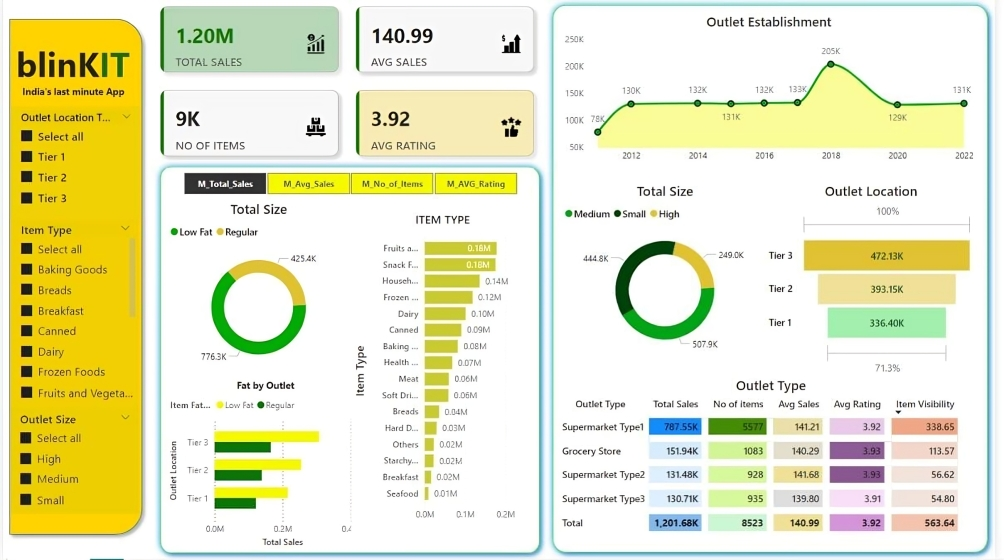

The dashboard page shown, as its layout file describes it:
{"tool":"powerbi","page":{"name":"Blinkit-DA","canvas":[1400,800],"ordinal":0},"visuals":[{"type":"shape","box":[0,27,205.6,747.4],"z":0},{"type":"textbox","box":[13.2,60.8,191.8,80.7],"z":1000},{"type":"textbox","box":[22.5,124.3,169.3,35.7],"z":2000},{"type":"cardVisual","fields":{"Data":["BlinkIT Grocery Data.M_Total_Sales","BlinkIT Grocery Data.M_Avg_Sales","BlinkIT Grocery Data.M_No_of_Items","BlinkIT Grocery Data.M_AVG_Rating"]},"box":[205,1.3,562.2,246],"z":3000},{"type":"shape","box":[213,235.5,554.2,564.8],"z":4000},{"type":"slicer","title":"Fat Content","fields":{"Values":["BlinkIT Grocery Data.Outlet Location Type"]},"box":[12.9,160,180,121.4],"z":5000},{"type":"slicer","fields":{"Values":["Metrices.Metrices"]},"box":[230.2,247.4,519.8,43.7],"z":6000},{"type":"cardVisual","fields":{"Data":["BlinkIT Grocery Data.M_Total_Sales"]},"box":[324.1,415.3,103.2,75.4],"z":7000},{"type":"clusteredBarChart","title":"Fat by Outlet","fields":{"Y":["BlinkIT Grocery Data.M_Total_Sales"],"Category":["BlinkIT Grocery Data.Outlet Location Type"],"Series":["BlinkIT Grocery Data.Item Fat Content"]},"box":[231.5,545,279.1,243.4],"z":8000},{"type":"barChart","title":"ITEM TYPE","fields":{"Category":["BlinkIT Grocery Data.Item Type"],"Y":["BlinkIT Grocery Data.M_Total_Sales"]},"box":[490.7,308.2,259.3,465.6],"z":9000},{"type":"shape","box":[767.2,7.9,632.3,792.3],"z":10000},{"type":"lineChart","title":"Outlet Establishment","fields":{"Category":["BlinkIT Grocery Data.Outlet Establishment Year"],"Y":["BlinkIT Grocery Data.M_Total_Sales"]},"box":[788.4,26.5,587.3,220.9],"z":11000},{"type":"donutChart","title":"Total Size","fields":{"Category":["BlinkIT Grocery Data.Outlet Size"],"Y":["BlinkIT Grocery Data.M_Total_Sales"]},"box":[788.4,265.9,293.7,252.6],"z":12000},{"type":"funnel","title":"Outlet Location","fields":{"Category":["BlinkIT Grocery Data.Outlet Location Type"],"Y":["Sum(BlinkIT Grocery Data.Sales)"]},"box":[1076.7,265.9,298.9,279.1],"z":13000},{"type":"pivotTable","title":"Outlet Type","fields":{"Rows":["BlinkIT Grocery Data.Outlet Type"],"Values":["BlinkIT Grocery Data.M_Total_Sales","BlinkIT Grocery Data.M_No_of_Items","BlinkIT Grocery Data.M_Avg_Sales","BlinkIT Grocery Data.M_AVG_Rating","Sum(BlinkIT Grocery Data.Item Visibility)"]},"box":[779.1,541,609.8,247.4],"z":14000},{"type":"slicer","fields":{"Values":["BlinkIT Grocery Data.Item Type"]},"box":[12.9,291.4,178.6,294.3],"z":15000},{"type":"slicer","fields":{"Values":["BlinkIT Grocery Data.Outlet Size"]},"box":[11.4,585,180.6,139.9],"z":16000}]}

Visuals, with their boxes in screenshot pixels (x1, y1, x2, y2), scaled from the page's 1400x800 canvas onto the 1004x560 screenshot:
shape: x1=0 y1=19 x2=147 y2=542
textbox: x1=9 y1=43 x2=147 y2=99
textbox: x1=16 y1=87 x2=138 y2=112
cardVisual - BlinkIT Grocery Data.M_Total_Sales x BlinkIT Grocery Data.M_Avg_Sales: x1=147 y1=1 x2=550 y2=173
shape: x1=153 y1=165 x2=550 y2=559
"Fat Content" slicer: x1=9 y1=112 x2=138 y2=197
slicer - Metrices.Metrices: x1=165 y1=173 x2=538 y2=204
cardVisual - BlinkIT Grocery Data.M_Total_Sales: x1=232 y1=291 x2=306 y2=343
"Fat by Outlet" clusteredBarChart: x1=166 y1=382 x2=366 y2=552
"ITEM TYPE" barChart: x1=352 y1=216 x2=538 y2=542
shape: x1=550 y1=6 x2=1003 y2=559
"Outlet Establishment" lineChart: x1=565 y1=19 x2=987 y2=173
"Total Size" donutChart: x1=565 y1=186 x2=776 y2=363
"Outlet Location" funnel: x1=772 y1=186 x2=987 y2=382
"Outlet Type" pivotTable: x1=559 y1=379 x2=996 y2=552
slicer - BlinkIT Grocery Data.Item Type: x1=9 y1=204 x2=137 y2=410
slicer - BlinkIT Grocery Data.Outlet Size: x1=8 y1=410 x2=138 y2=507
